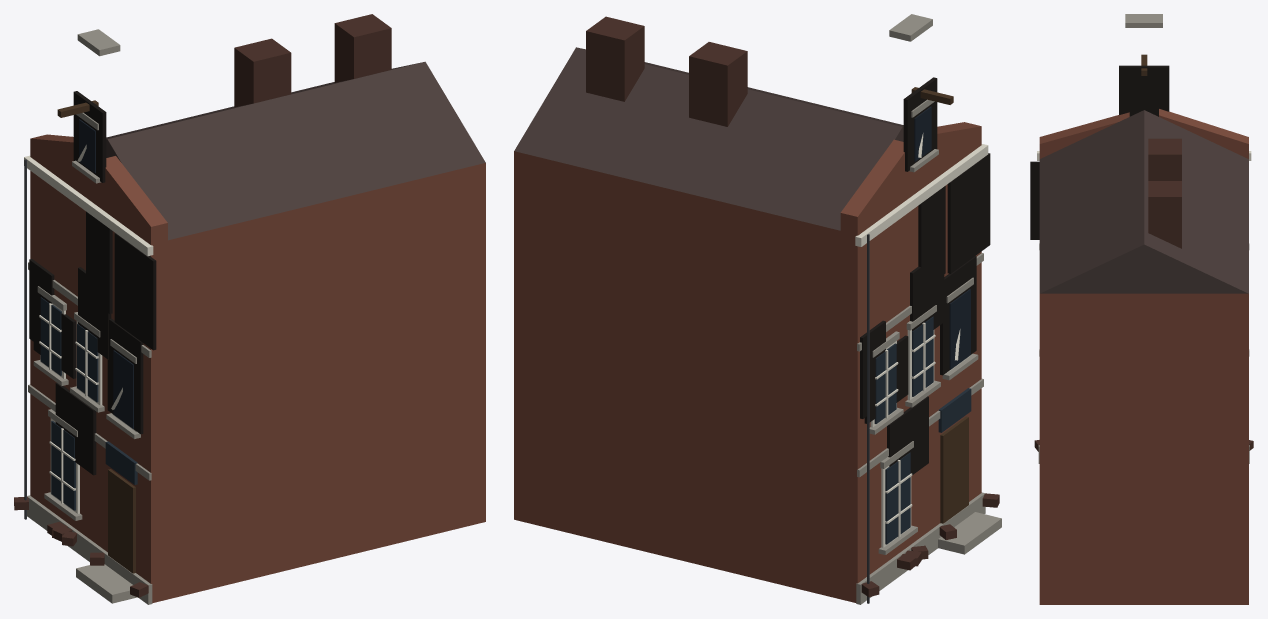
The model's file is gevel_tuit_schade.glb.
3 renders of one model, left to right at view 1: azimuth 30°, elevation 25°; view 2: azimuth 150°, elevation 25°; view 3: azimuth 270°, elevation 25°, orthographic. The views are drawn at different scales.
Visible parts, largest first — view 1: Gevel; view 2: Gevel; view 3: Gevel.
Boxes of the visible parts, x1,y1,x2,y2 form: Gevel: (14,14,485,604); Gevel: (514,14,1001,604); Gevel: (1030,14,1253,604).
Bounding box in the file's own units: 8.75 × 11.82 × 5.33.
